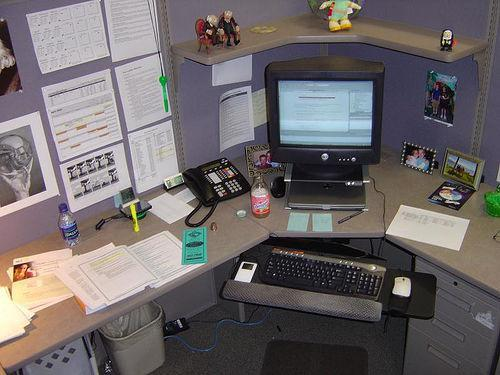tv: (257, 46, 385, 171)
